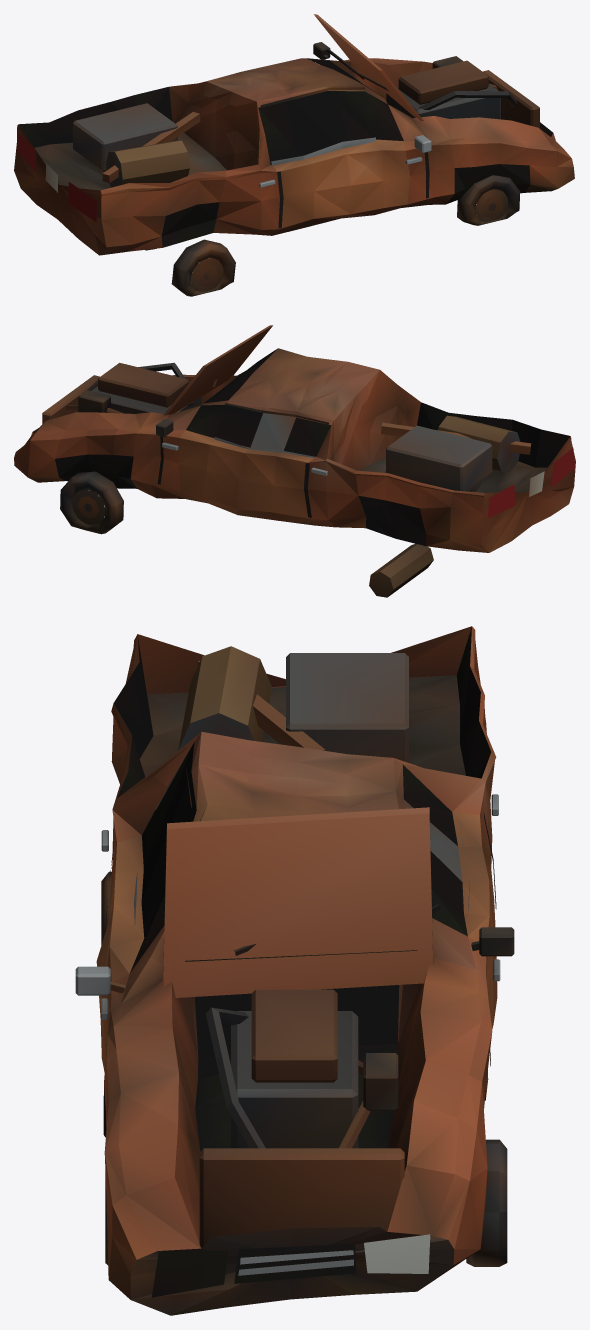
The model's file is wreck_b.glb.
3 renders of one model, top to bottom at view 1: azimuth 30°, elevation 25°; view 2: azimuth 150°, elevation 25°; view 3: azimuth 270°, elevation 25°, orthographic. The views are drawn at different scales.
Parts seen in each view (by area): view 1: WreckB; view 2: WreckB; view 3: WreckB.
Boxes of the visible parts, x1,y1,x2,y2 form: WreckB: [14, 14, 574, 296]; WreckB: [14, 325, 575, 597]; WreckB: [75, 626, 514, 1315].
Bounding box in the file's own units: 5.12 × 1.73 × 1.99.
